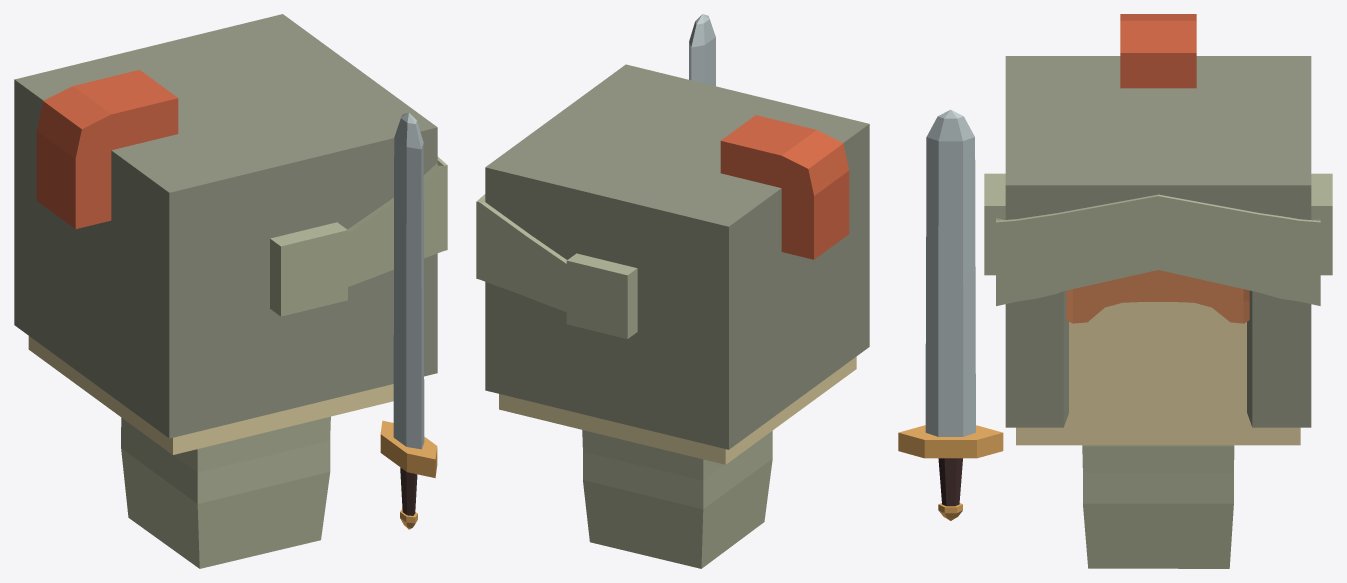
The model's file is Enemy01.fbx.
3 renders of one model, left to right at view 1: azimuth 30°, elevation 25°; view 2: azimuth 150°, elevation 25°; view 3: azimuth 270°, elevation 25°, orthographic. The views are drawn at different scales.
Visible parts, largest first — view 1: Cube; view 2: Cube; view 3: Cube.
Boxes of the visible parts, box(x1,y1,x2,y2) form: Cube: box(14, 14, 447, 568); Cube: box(476, 14, 869, 568); Cube: box(898, 14, 1332, 568).
Size of the model in its own units: 49.48 by 72.55 by 61.04.
